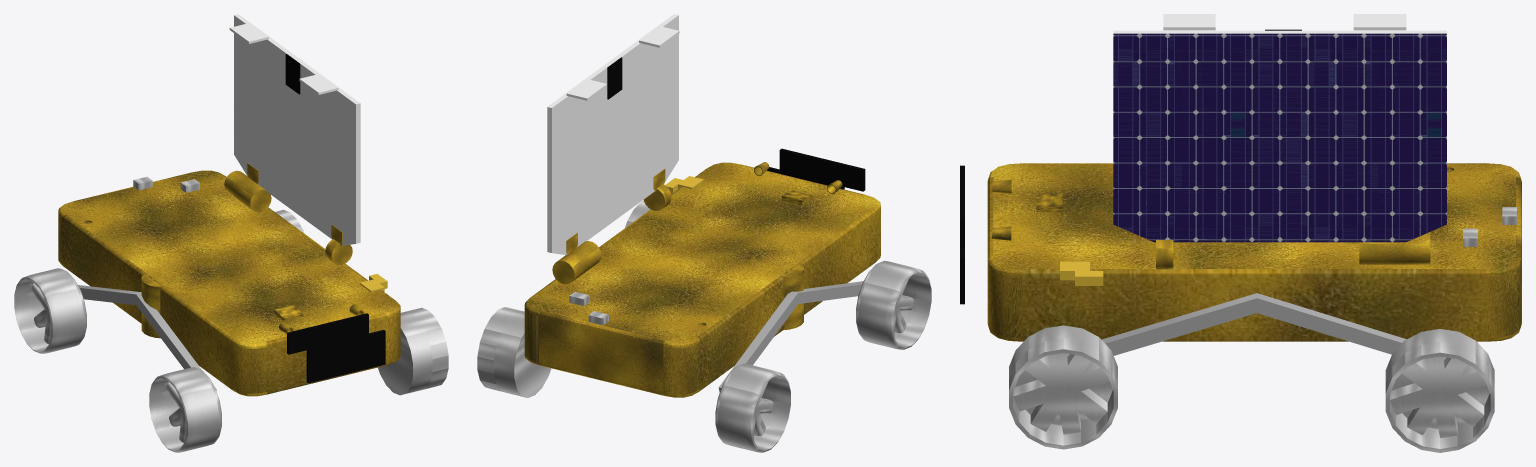
The model's file is pragyan_rover.glb.
3 views of the same model, side by side, from view 1: azimuth 30°, elevation 25°; view 2: azimuth 150°, elevation 25°; view 3: azimuth 270°, elevation 25° (orthographic). The views are drawn at different scales.
Parts seen in each view (by area): view 1: Object_9, Object_4, Object_11, Object_12, Object_10, Object_13, Object_5, Object_3; view 2: Object_9, Object_4, Object_11, Object_12, Object_10, Object_13, Object_6, Object_3; view 3: Object_2, Object_9, Object_11, Object_10, Object_13, Object_3, Object_7, Object_12.
Boxes of the visible parts, <box> form: Object_9: <box>58,163,400,396</box>; Object_4: <box>234,15,355,245</box>; Object_11: <box>14,176,448,452</box>; Object_12: <box>285,54,385,383</box>; Object_10: <box>78,285,216,390</box>; Object_13: <box>229,23,338,94</box>; Object_5: <box>356,103,360,243</box>; Object_3: <box>234,14,359,104</box>; Object_9: <box>524,162,880,397</box>; Object_4: <box>552,15,678,254</box>; Object_11: <box>477,201,931,452</box>; Object_12: <box>607,57,865,191</box>; Object_10: <box>718,281,863,392</box>; Object_13: <box>566,26,679,100</box>; Object_6: <box>547,107,551,252</box>; Object_3: <box>547,14,678,107</box>; Object_2: <box>1113,33,1446,242</box>; Object_9: <box>987,163,1521,341</box>; Object_11: <box>1009,207,1516,452</box>; Object_10: <box>1102,293,1406,355</box>; Object_13: <box>1163,14,1406,30</box>; Object_3: <box>1113,30,1446,33</box>; Object_7: <box>1060,261,1103,285</box>; Object_12: <box>960,29,1301,304</box>.
Size of the model in its own units: 97.25 by 102 by 133.
6 materials, 3 textured.
